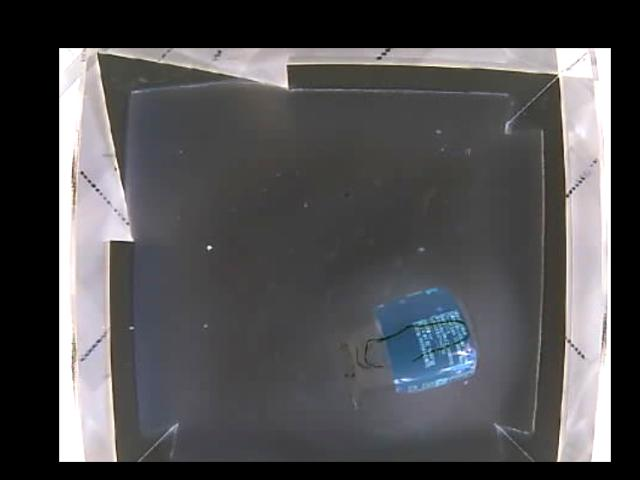Bottle: (337, 285, 482, 410)
